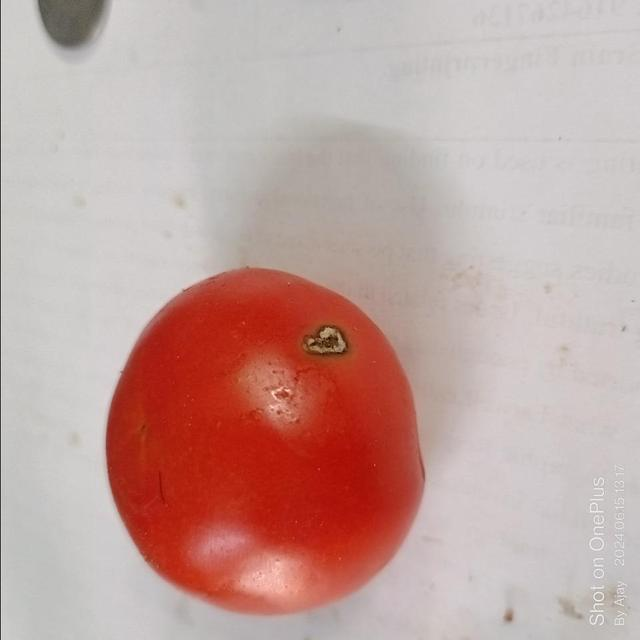Bacterial Spot Fruit: (201, 216, 234, 239)
